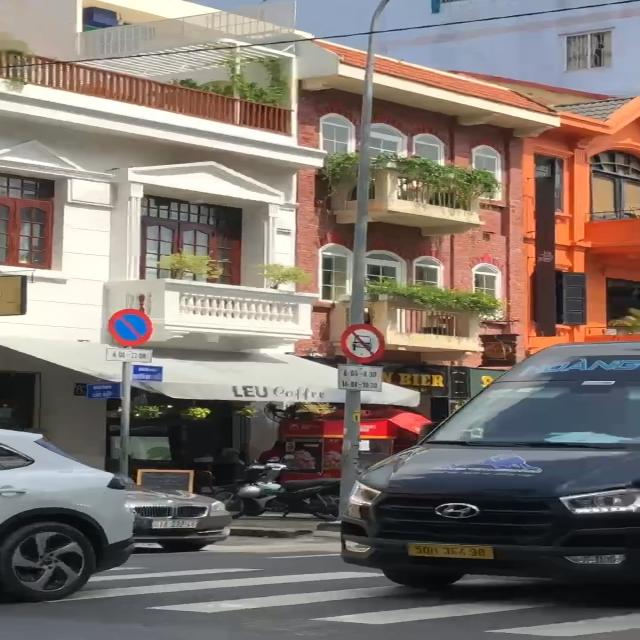Bien bao cam do xe: (108, 307, 166, 350)
Bien bao cam xe oto: (335, 323, 390, 365)
